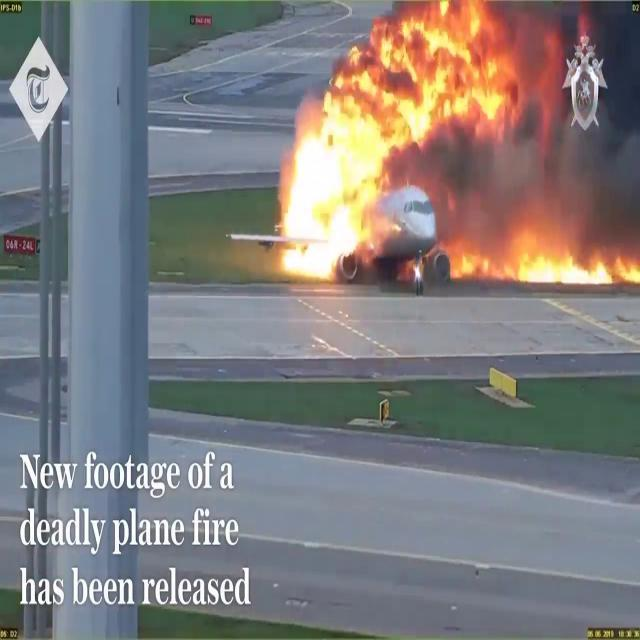Fire: (270, 1, 542, 283), (443, 216, 640, 290)
